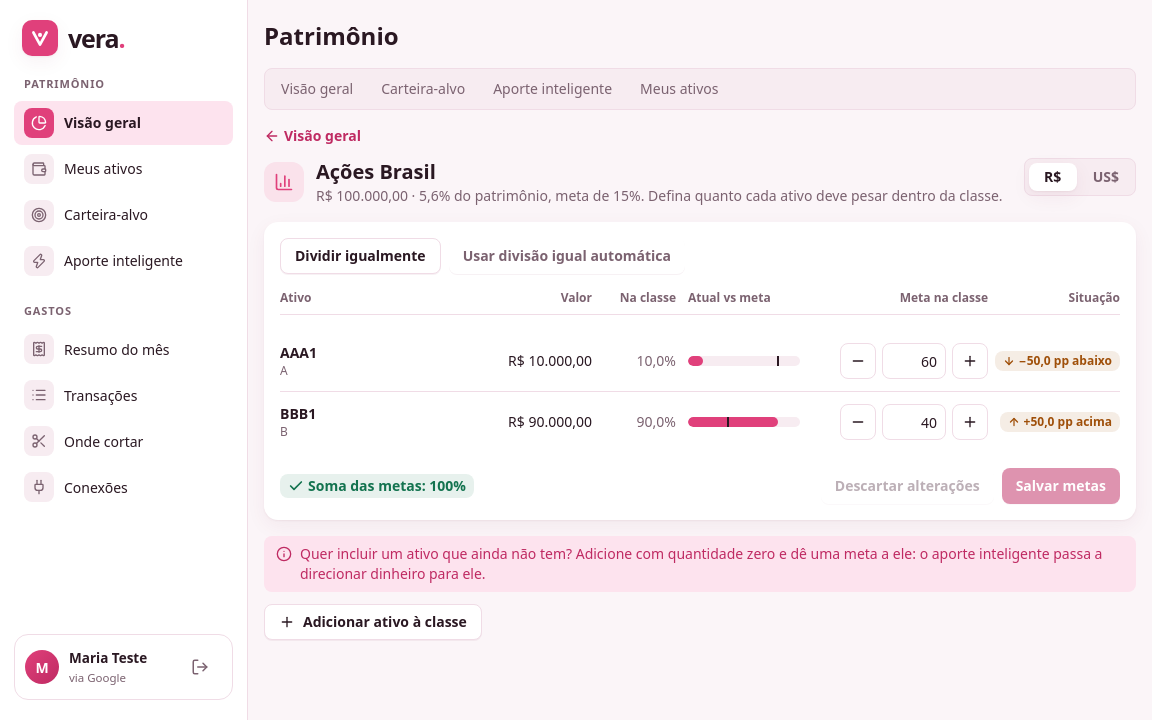
Test: classe: leitura › mostra quanto falta para a meta quando o ativo está fora da faixa
Click the button named "Atual vs meta de AAA1": [744, 361] box [688, 352, 800, 370]
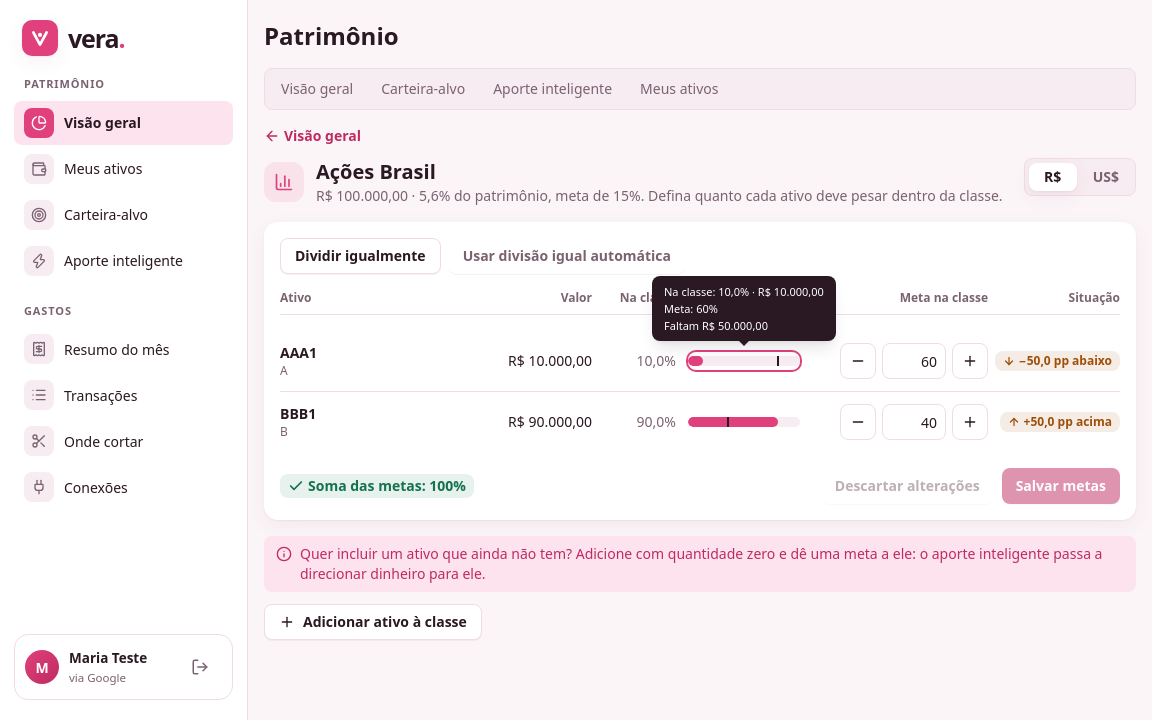
Expected: the text "−50,0 pp abaixo" is shown, [995, 350, 1120, 370]
Result: the tooltip reads "Na classe: 10,0% · R$ 10.000,00 Meta: 60% Faltam R$ 50.000,00" at [664, 318, 768, 333]
